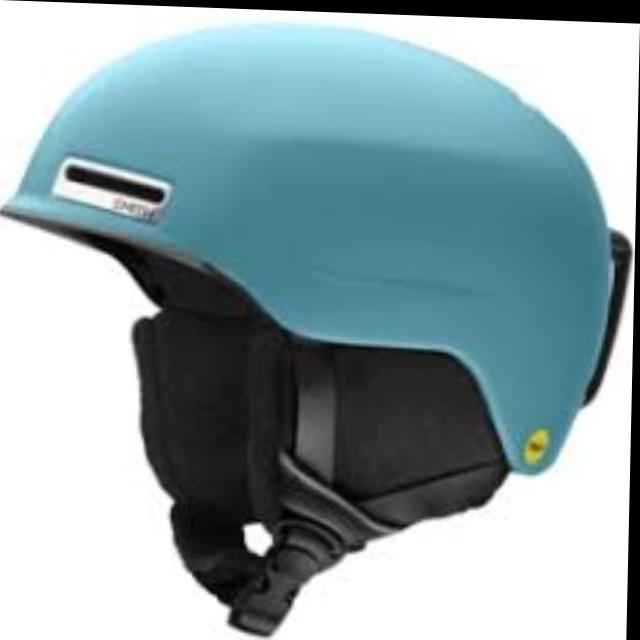motorcycle-helmets: (0, 8, 633, 640)
